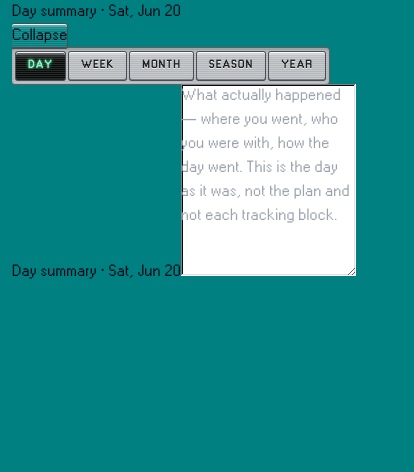
TrackingDayNotes › opens week, month, season, and year summaries without showing plan text
Click the button "Week" at {"x": 98, "y": 66}, box [69, 52, 126, 80]
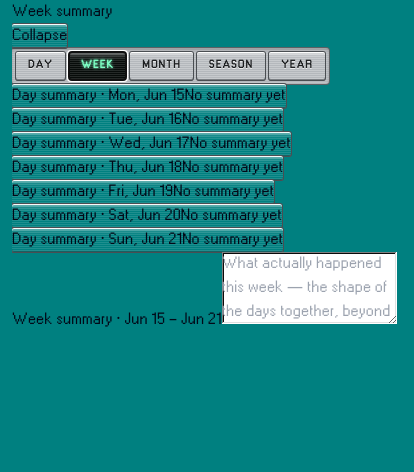
expect the element named "Week summary" is shown: met, box [12, 84, 402, 332]
Type "A quiet week at the desk" into the text box labelled "Week summary · Jun 15 – Jun 21" at {"x": 309, "y": 288}, box [222, 252, 397, 324]
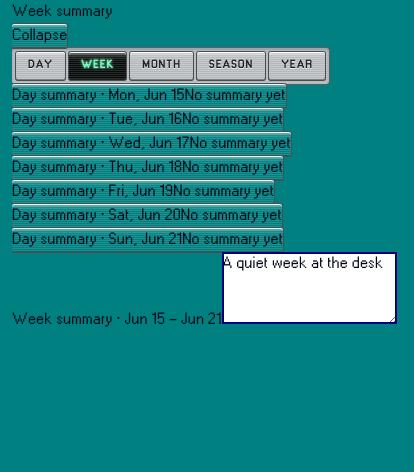
Click the button "Day summary · Mon, Jun 15No summary yet" at {"x": 149, "y": 96}, box [12, 84, 286, 108]
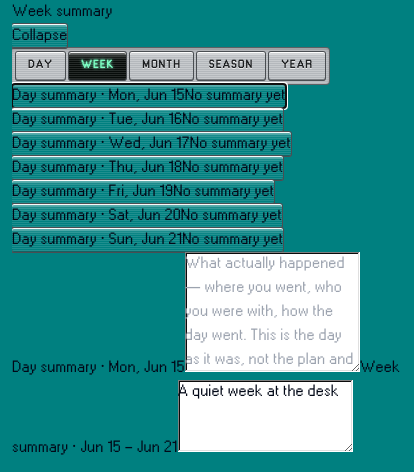
expect the text box labelled "Day summary · Mon, Jun 15" is shown: met, box [185, 252, 360, 372]
Click the button "Month" at {"x": 162, "y": 66}, box [130, 52, 193, 80]
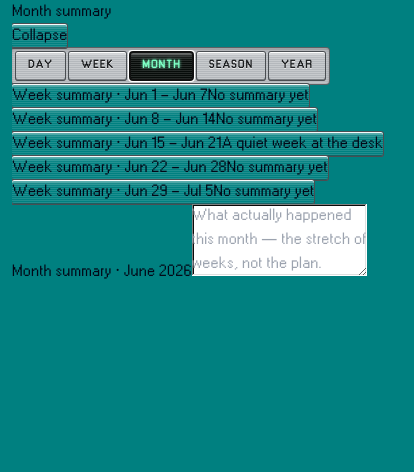
expect the element named "Month summary June 2026" is shown: met, box [12, 84, 402, 284]
expect the text box labelled "Month summary · June 2026" is shown: met, box [192, 204, 367, 276]
Click the button "Season" at {"x": 231, "y": 66}, box [197, 52, 265, 80]
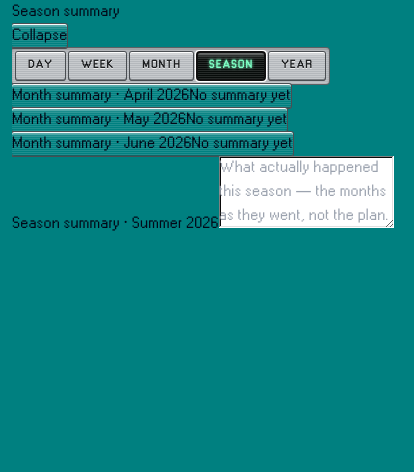
expect the element named "Season summary Summer 2026" is shown: met, box [12, 84, 402, 236]
Click the button "Year" at {"x": 297, "y": 66}, box [269, 52, 325, 80]
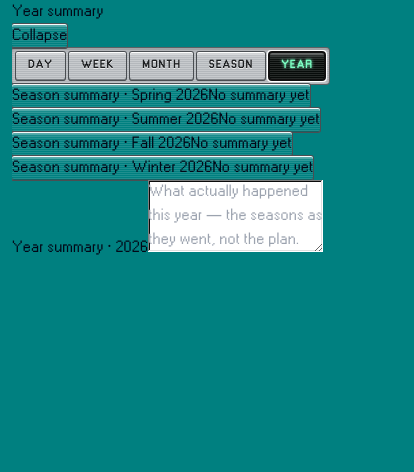
expect the element named "Year summary 2026" is shown: met, box [12, 84, 323, 255]
expect the text box labelled "Year summary · 2026" is shown: met, box [148, 180, 323, 252]
